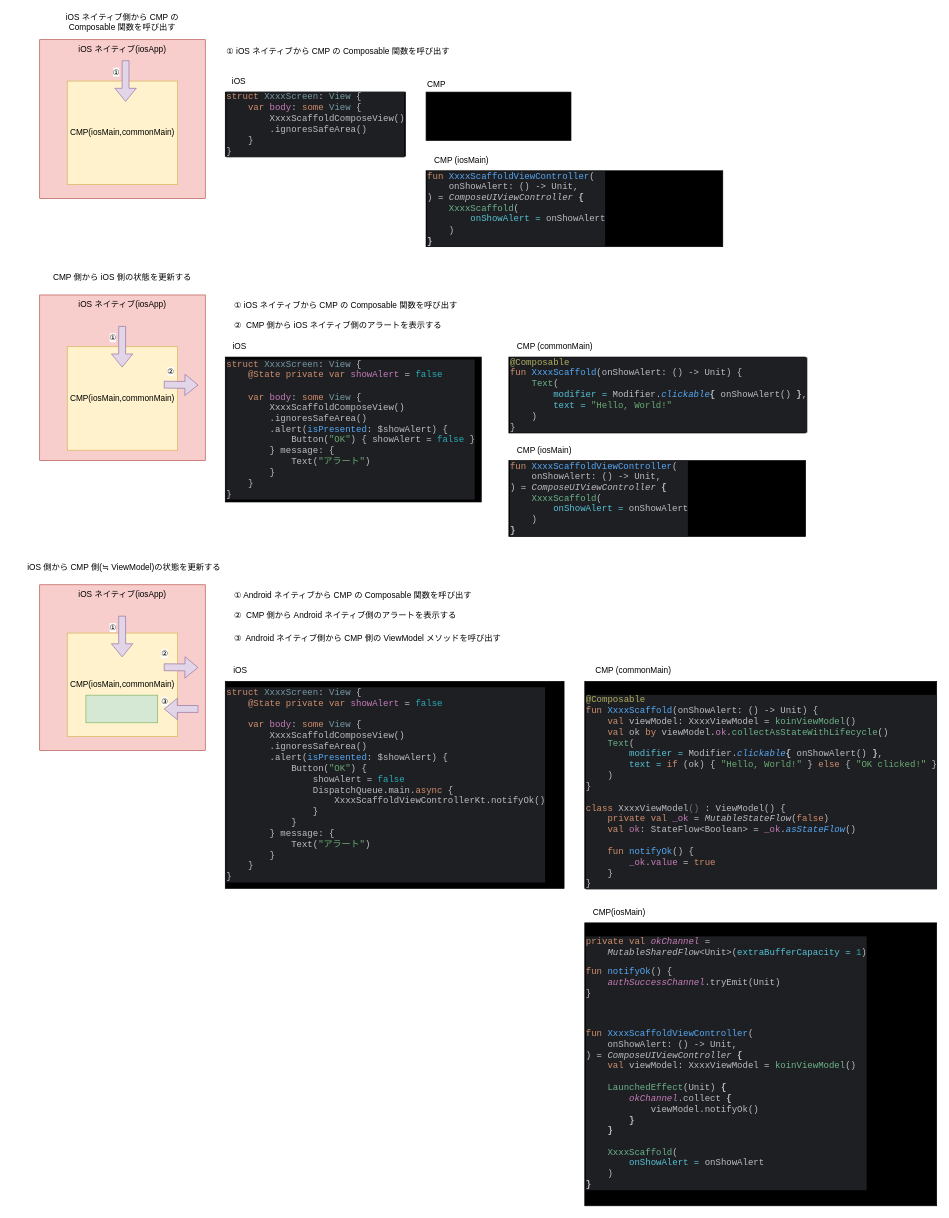
Some shapes in this 949 by 1218 pixel diagram are drawn without their labels. The shapes that lost their labels are listed below. From the top down, each one's centre as x and y in pixels, then its label:
the point at 498,115: @Composable fun XxxxScaffold () { Text ( "Hello, World!" ) }
the point at 121,708: ViewModel
